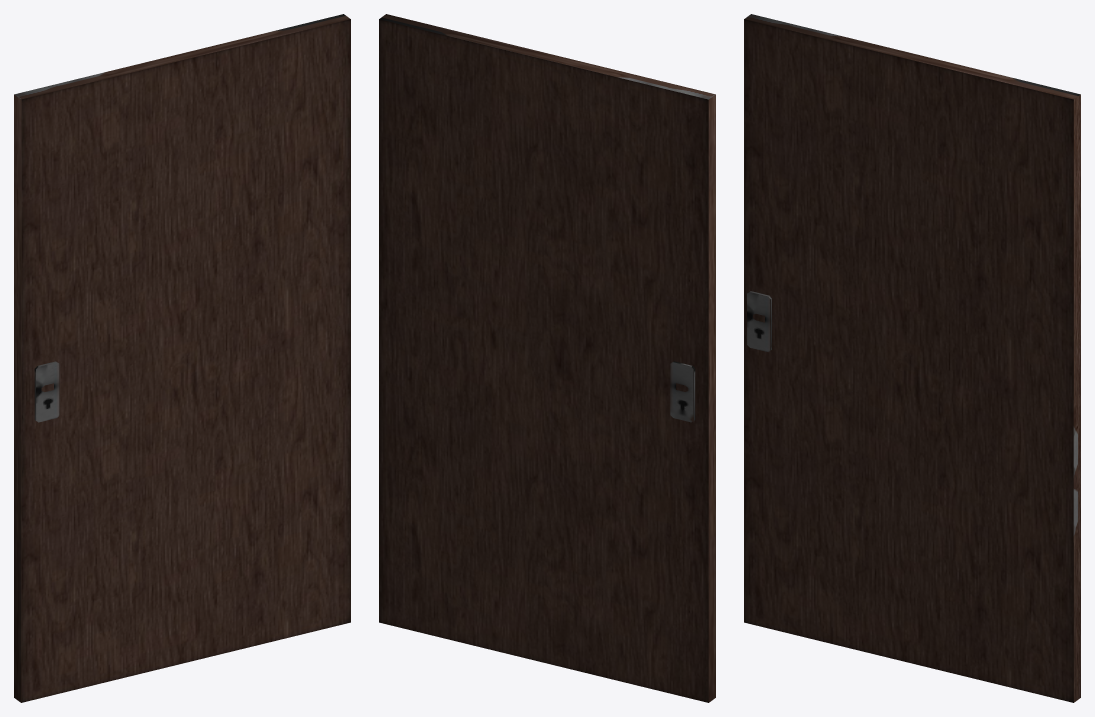
The model's file is P_Door.fbx.
The picture shows the model from 3 angles, left to right: view 1: azimuth 30°, elevation 25°; view 2: azimuth 150°, elevation 25°; view 3: azimuth 330°, elevation 25°; orthographic projection.
Parts seen in each view (by area): view 1: P_Door; view 2: P_Door; view 3: P_Door.
Boxes of the visible parts, x1,y1,x2,y2 form: P_Door: (14,14,350,702); P_Door: (379,14,715,702); P_Door: (744,14,1080,702).
Bounding box in the file's own units: 128 × 224 × 12.69.
1 material, 1 textured.
